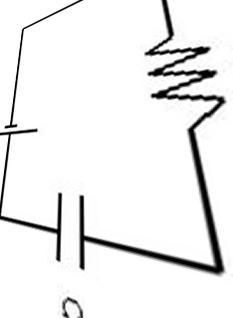resistor: (133, 28, 225, 134)
